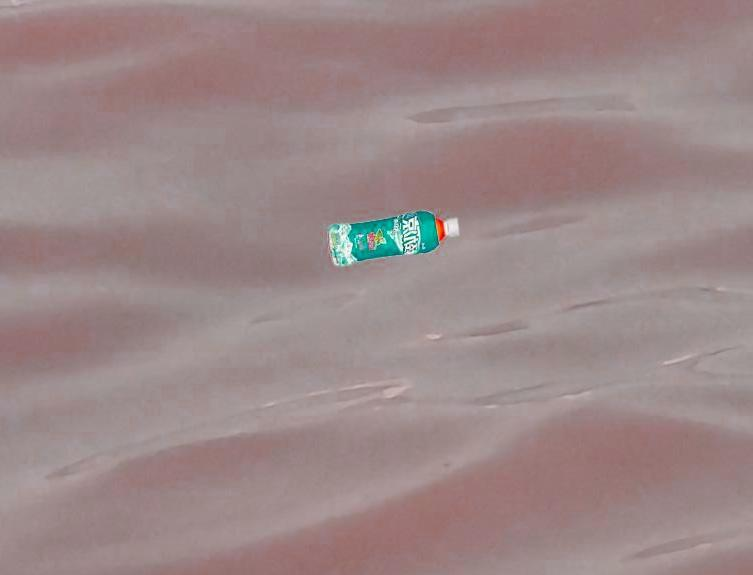Plastic: (326, 207, 465, 272)
